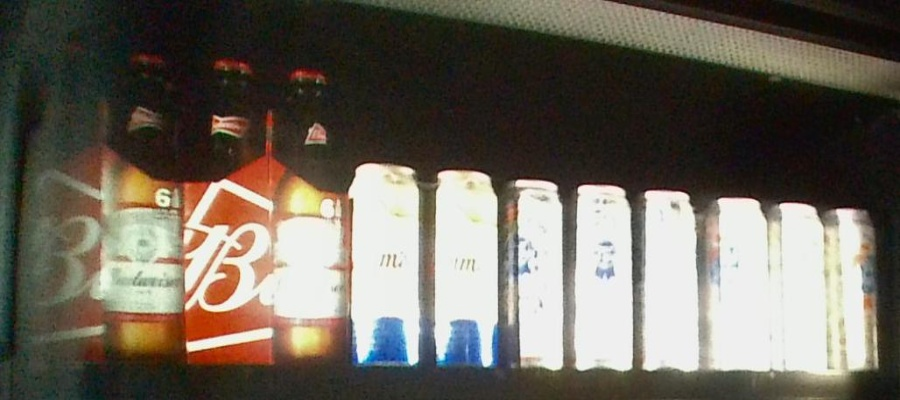bottle: (15, 48, 184, 356), (184, 57, 349, 358), (503, 171, 703, 374), (703, 193, 879, 376), (349, 159, 502, 368)
